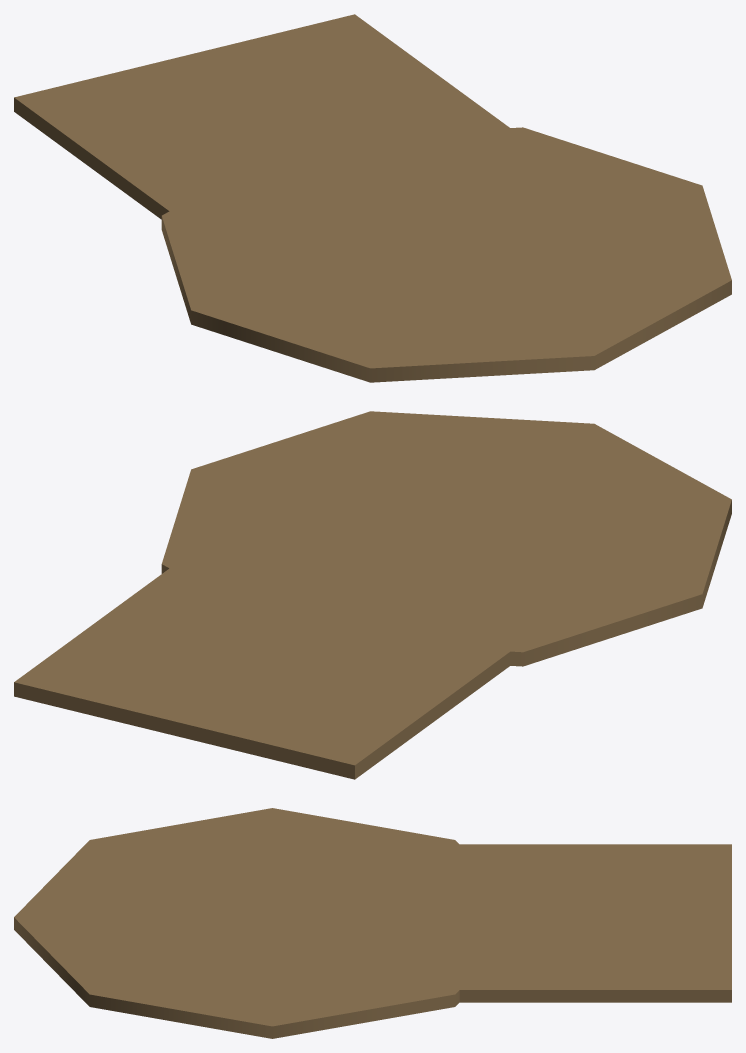
File: road_dirt_dead_end_lod1.glb
The picture shows the model from 3 angles, top to bottom: view 1: azimuth 30°, elevation 25°; view 2: azimuth 150°, elevation 25°; view 3: azimuth 270°, elevation 25°; orthographic projection. The views are drawn at different scales.
Visible parts, largest first — view 1: body; view 2: body; view 3: body.
Boxes of the visible parts, box(x1,y1,x2,y2) form: body: box(14, 14, 731, 382); body: box(14, 411, 731, 779); body: box(14, 808, 731, 1038).
Size of the model in its own units: 4.5 by 0.12 by 6.25.
